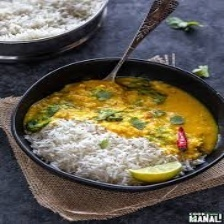rice: (0, 0, 106, 50)
